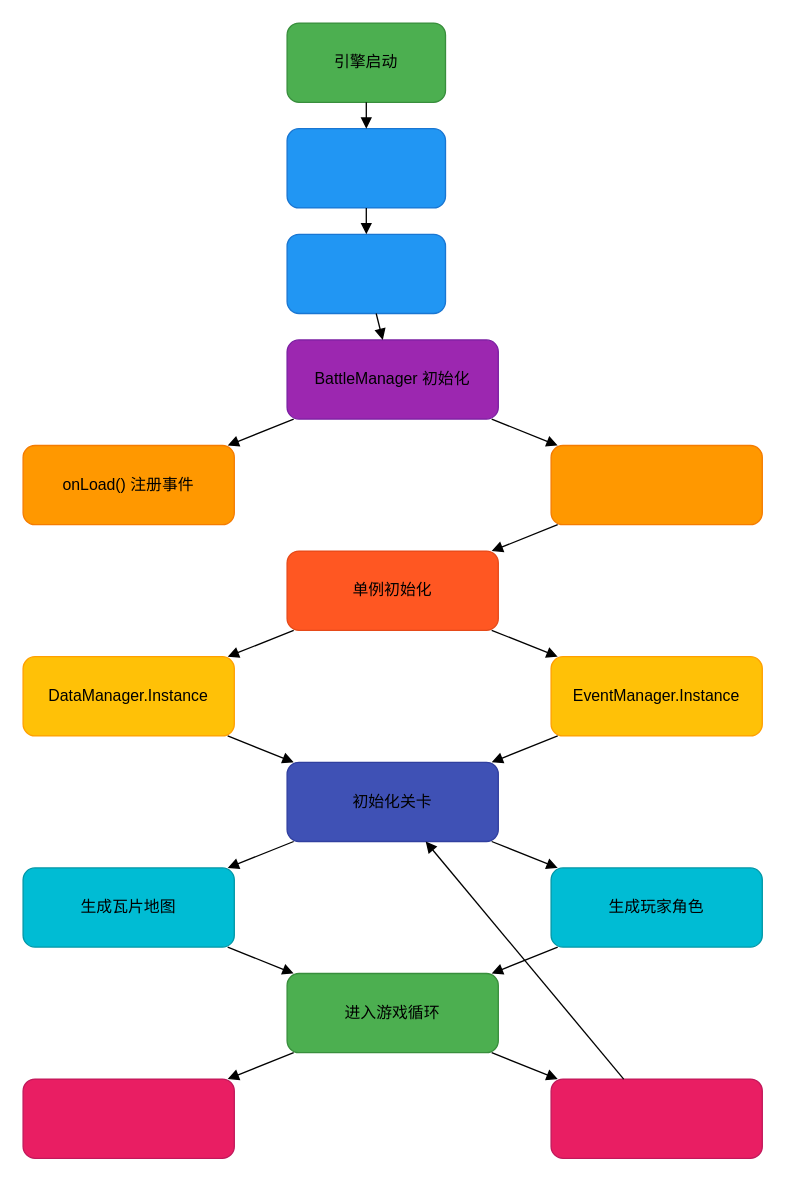
Some shapes in this 785 by 1181 pixel diagram are drawn without their labels. The centre of each missing label's shape, as x and y in pixels:
start() 生成舞台: the point at 656,484
事件触发: the point at 128,1118
关卡切换: the point at 656,1118
初始化 Canvas: the point at 366,273
加载 Battle.scene: the point at 366,167
